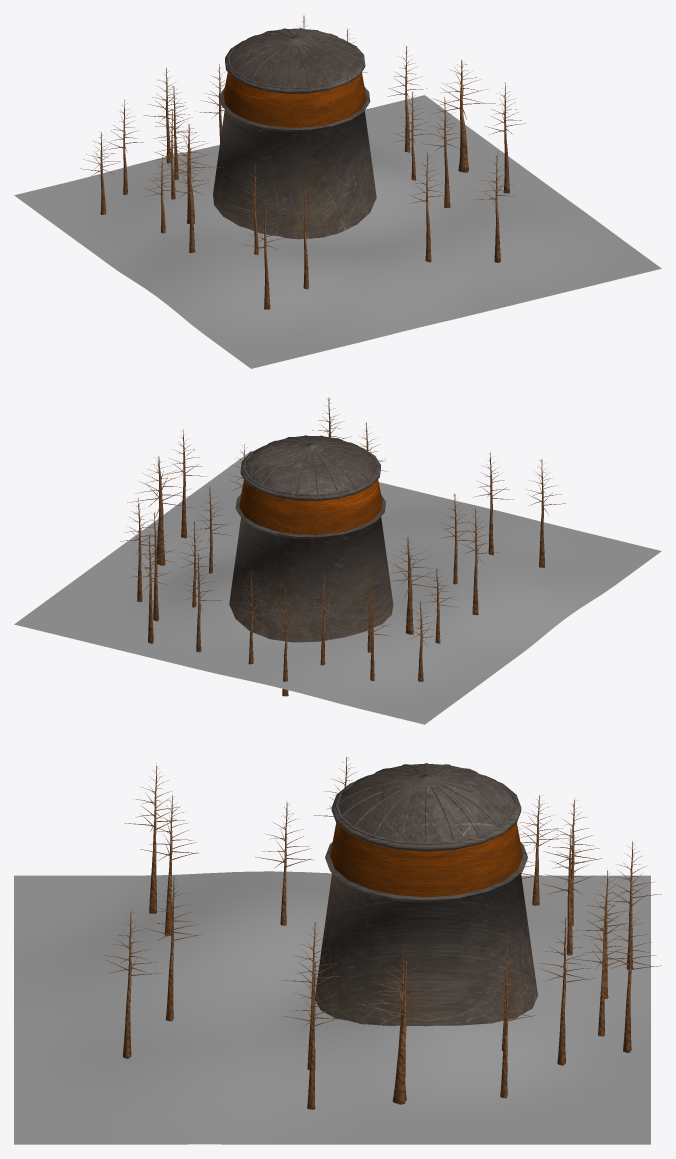
The model's file is pałac_rady_p1.FBX.
3 renders of one model, top to bottom at view 1: azimuth 30°, elevation 25°; view 2: azimuth 150°, elevation 25°; view 3: azimuth 270°, elevation 25°, orthographic. The views are drawn at different scales.
Visible parts, largest first — view 1: Plane001, complex_simple_loaded, Object001, Foliage002, Foliage007, Foliage004, Foliage006, Foliage023, Foliage009, Foliage020, Foliage021, Foliage022 (+1 smaller); view 2: Plane001, complex_simple_loaded, Object001, Foliage002, Foliage007, Foliage019, Foliage017, Foliage009, Foliage023, Foliage006, Foliage014, Foliage001 (+2 smaller); view 3: Plane001, complex_simple_loaded, Object001, Foliage002, Foliage020, Foliage023, Foliage017, Foliage006, Foliage019, Foliage021, Foliage001, Foliage022 (+9 smaller).
Boxes of the visible parts, x1,y1,x2,y2 form: Plane001: [14, 95, 661, 368]; complex_simple_loaded: [213, 28, 376, 239]; Object001: [223, 72, 366, 127]; Foliage002: [429, 60, 495, 172]; Foliage007: [156, 121, 223, 224]; Foliage004: [422, 97, 463, 207]; Foliage006: [485, 82, 526, 193]; Foliage023: [243, 199, 284, 309]; Foliage009: [168, 143, 209, 252]; Foliage020: [475, 151, 514, 262]; Foliage021: [408, 152, 446, 262]; Foliage022: [286, 183, 325, 289]; Plane001: [14, 451, 661, 724]; complex_simple_loaded: [229, 435, 393, 642]; Object001: [239, 479, 382, 534]; Foliage002: [127, 456, 194, 565]; Foliage007: [376, 536, 444, 634]; Foliage019: [134, 512, 175, 621]; Foliage017: [129, 534, 170, 643]; Foliage009: [459, 508, 498, 615]; Foliage023: [525, 459, 565, 567]; Foliage006: [167, 429, 206, 538]; Foliage014: [268, 588, 309, 696]; Foliage001: [120, 498, 159, 602]; Plane001: [14, 871, 650, 1144]; complex_simple_loaded: [315, 763, 537, 1026]; Object001: [330, 823, 522, 896]; Foliage002: [356, 952, 453, 1104]; Foliage020: [104, 909, 161, 1058]; Foliage023: [124, 763, 185, 913]; Foliage017: [603, 905, 661, 1052]; Foliage006: [283, 961, 342, 1109]; Foliage019: [537, 915, 595, 1065]; Foliage021: [143, 874, 201, 1021]; Foliage001: [478, 956, 535, 1098]; Foliage022: [140, 795, 198, 935].
Size of the model in its own units: 39.37 by 17 by 40.06.
Materials: 4 (3 with a texture image).
